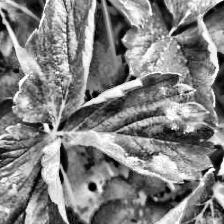Powdery Mildew Leaf: (60, 72, 218, 184), (120, 2, 220, 128), (10, 0, 97, 125), (0, 124, 70, 224), (113, 168, 224, 224)
